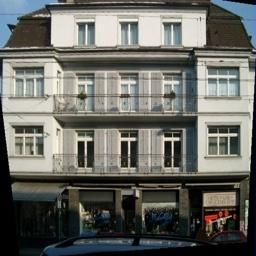building: (0, 0, 256, 234)
